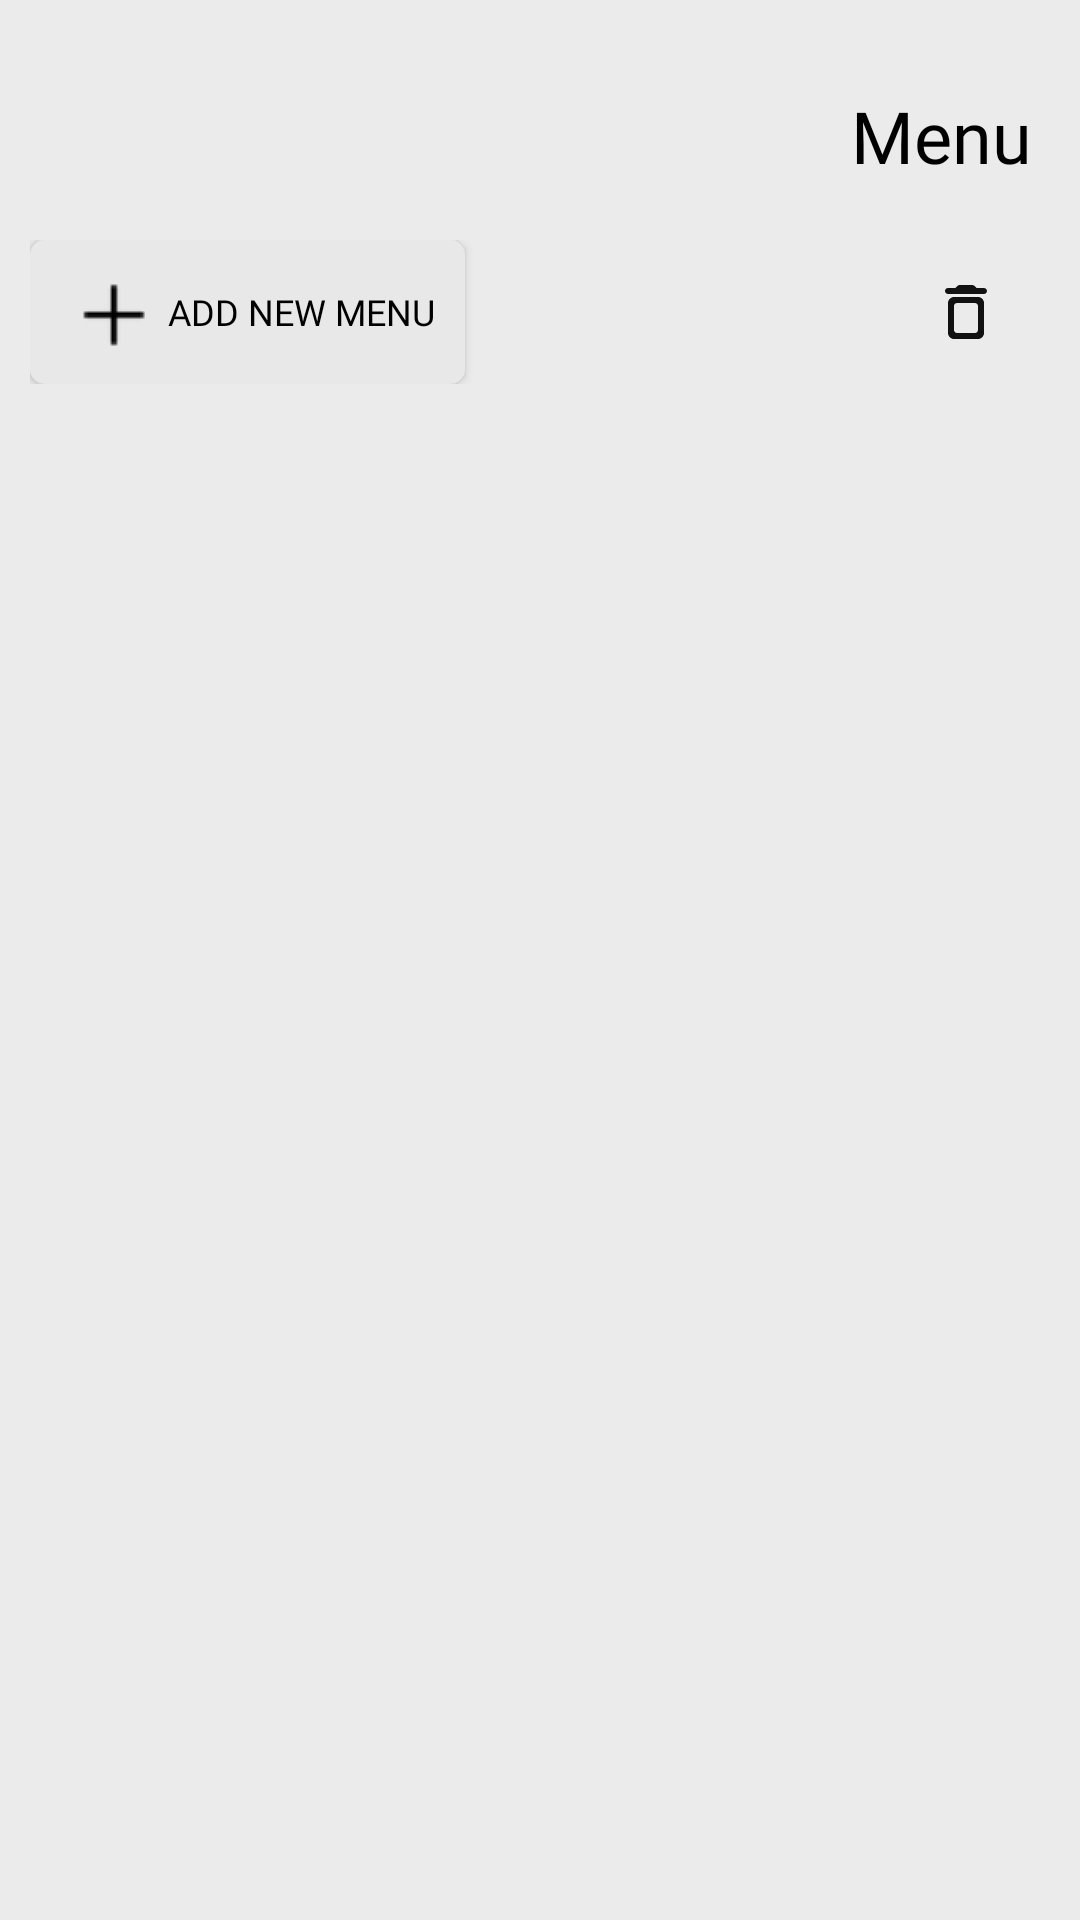

Icons on this 1080×1920 Android screen, each with its box as (x1, y1, x2, y2):
delete: (945, 285, 987, 339)
